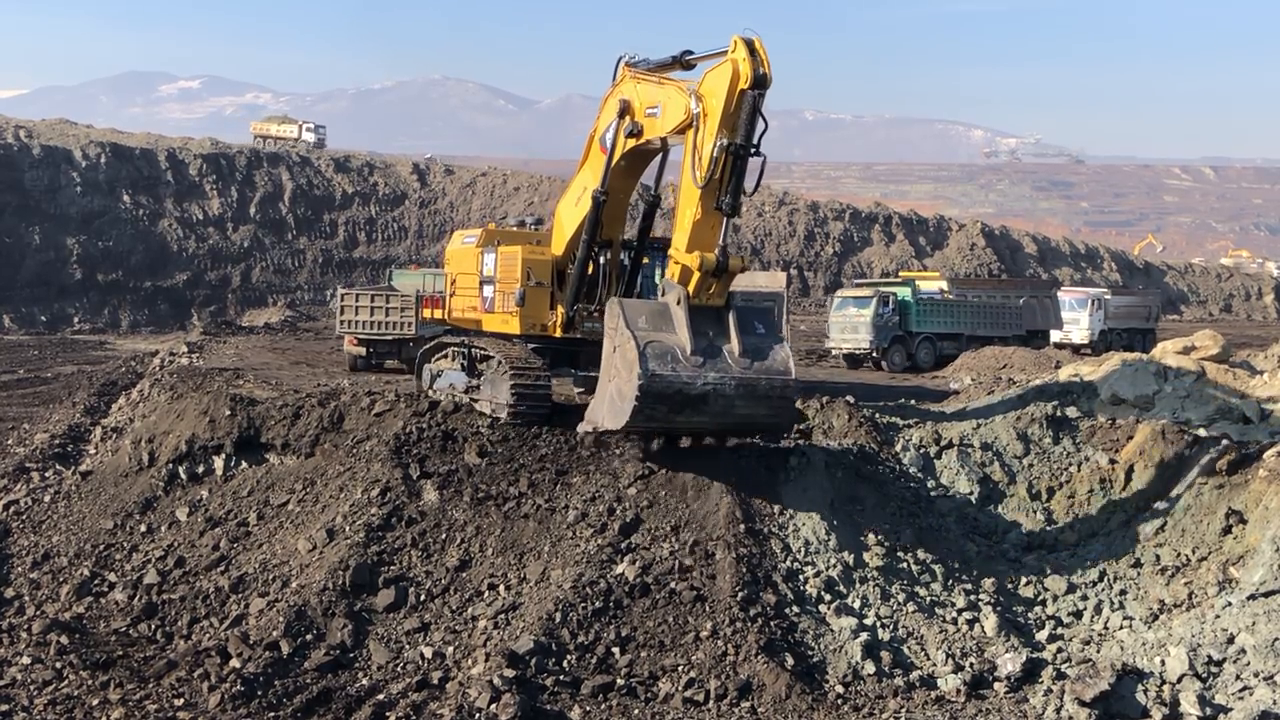empty: (570, 269, 805, 460)
